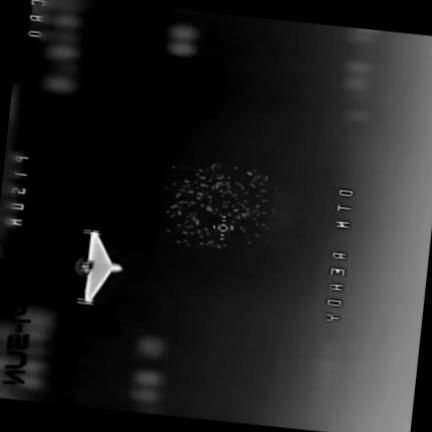Shahed: (76, 230, 122, 305)
